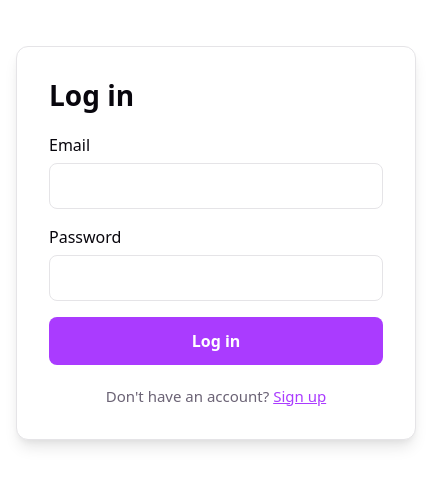
it: LoginPage › shows "Invalid email or password" on a 401
Expected: the heading "Log in" is shown, 49,76 -> 134,114
Type "ada@example.com" into the field labelled "Email" at point(216, 186), box 49,162 -> 383,208
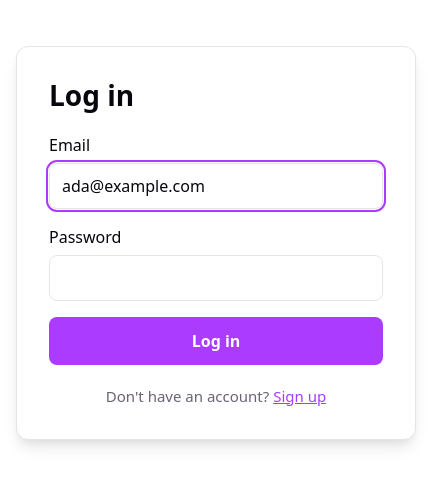
Type "wrong-password" into the password field labelled "Password" at point(216, 278), box 49,254 -> 383,300
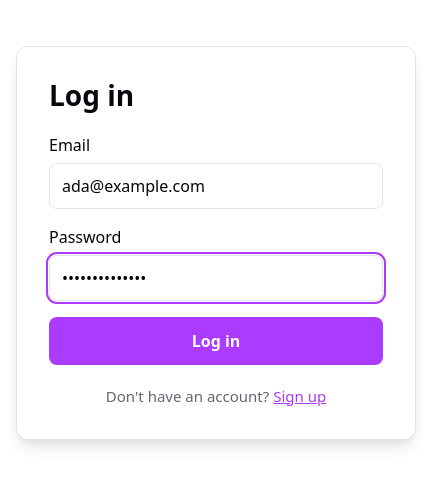
Click the button "Log in" at point(216, 340), box 49,316 -> 383,364
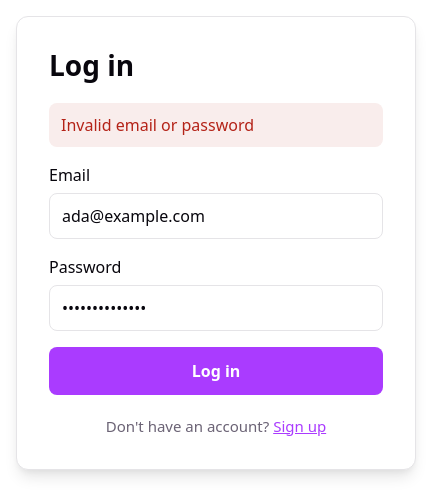
Expected: the button "Log in" is enabled, 49,346 -> 383,394
Now the message reads "Invalid email or password", box 61,114 -> 254,136
